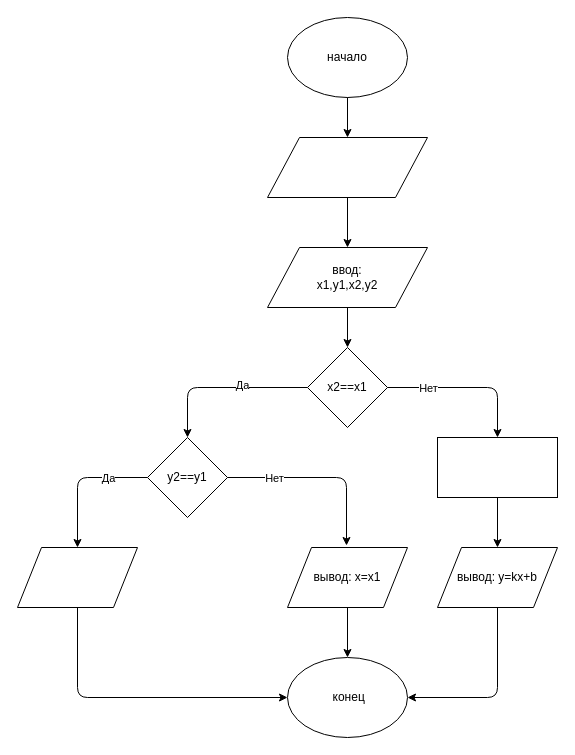
Some shapes in this 575 by 755 pixel diagram are drawn without their labels. The box of each missing label's shape, as (x1, y1, x2, y2) in pixels:
k=(y2-y1)/(x2-x1) b=(x2y1-x1y2)/(x2-x1): (436, 436, 558, 498)
вывод: введите координаты двух точек: (266, 136, 428, 198)
вывод: вы ввели координаты точки: (16, 546, 138, 608)
